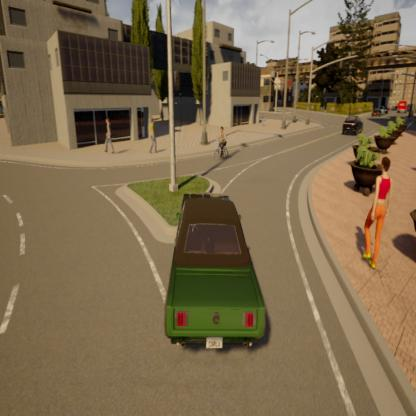Cars: (148, 190, 276, 364), (341, 113, 367, 138), (370, 105, 385, 120)
Pedestrian: (354, 156, 397, 277), (102, 114, 117, 158), (147, 114, 159, 158)
